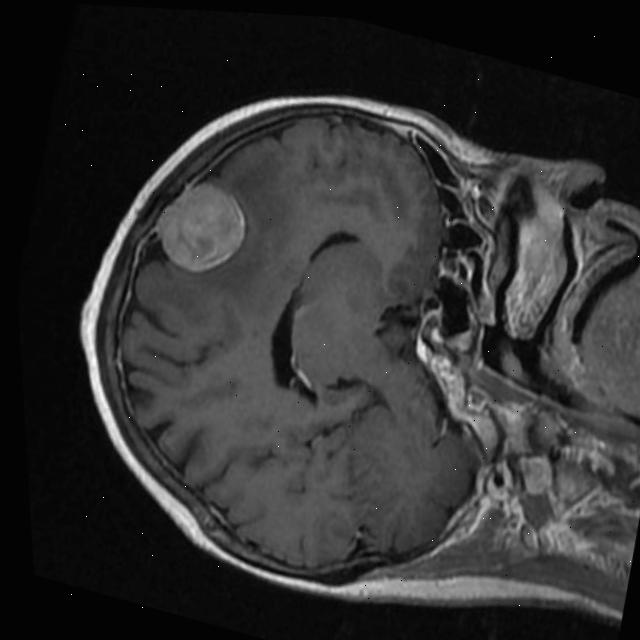Meningioma: (143, 168, 257, 287)
